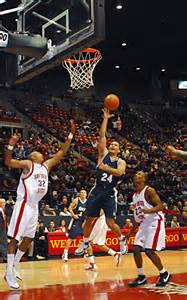basketball: (104, 94, 118, 109)
